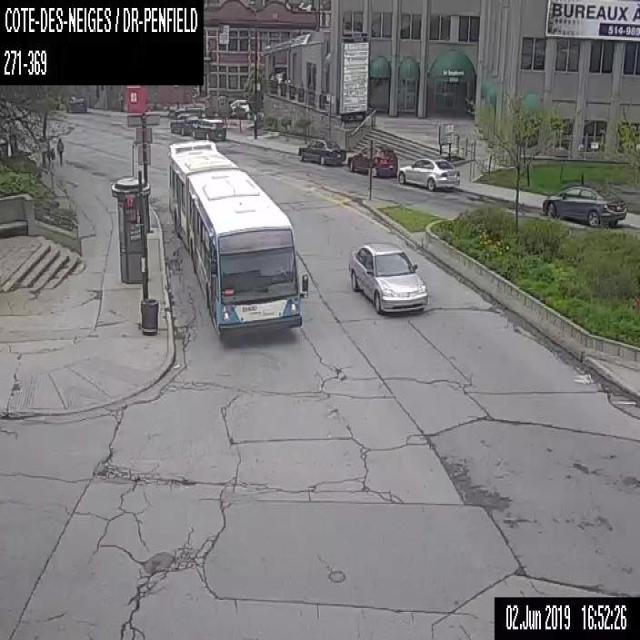bus: (168, 137, 308, 341)
pedestrian: (56, 137, 64, 167)
vehicle: (347, 241, 429, 315), (541, 182, 627, 230), (397, 155, 459, 190), (347, 143, 397, 177), (298, 136, 345, 166), (191, 118, 226, 138), (170, 112, 198, 134), (228, 98, 250, 119), (66, 96, 86, 112)
